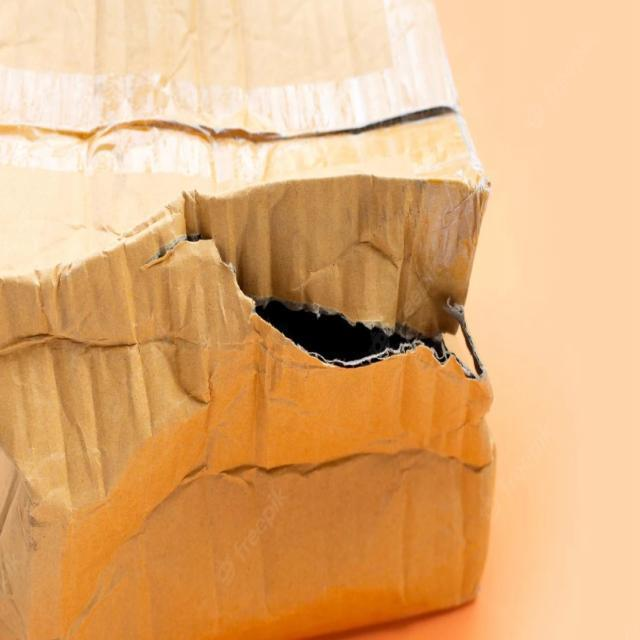hole: (199, 249, 475, 425)
